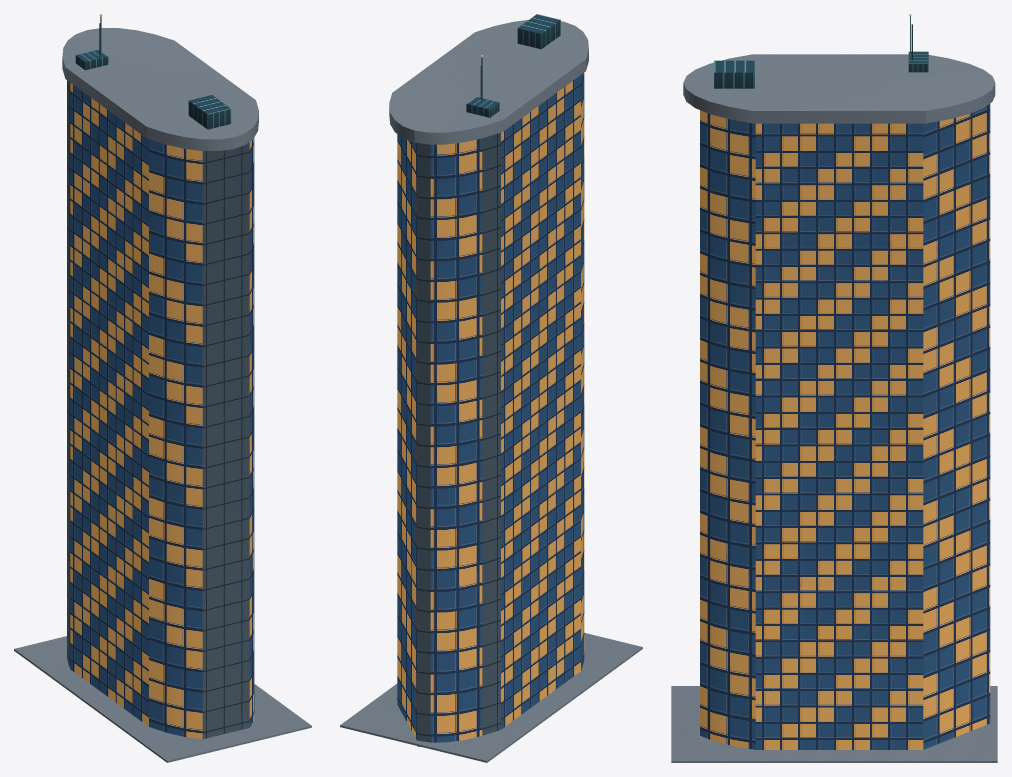
File: housing-b.glb
3 views of the same model, side by side, from view 1: azimuth 30°, elevation 25°; view 2: azimuth 150°, elevation 25°; view 3: azimuth 270°, elevation 25° (orthographic). The views are drawn at different scales.
Parts seen in each view (by area): view 1: stk_generic_modernWindows_b.png__, stk_lightGrayMetal_a.png__, stktex_generic_concreteA.png__, stk_emptyPanel_a.png__; view 2: stk_generic_modernWindows_b.png__, stktex_generic_concreteA.png__, stk_lightGrayMetal_a.png__, stk_emptyPanel_a.png__; view 3: stk_generic_modernWindows_b.png__, stktex_generic_concreteA.png__, stk_emptyPanel_a.png__.
Part boxes in pixels (bbox=[...]): stk_generic_modernWindows_b.png__: bbox=[70, 83, 254, 739]; stk_lightGrayMetal_a.png__: bbox=[67, 80, 249, 739]; stktex_generic_concreteA.png__: bbox=[14, 28, 311, 762]; stk_emptyPanel_a.png__: bbox=[75, 16, 231, 129]; stk_generic_modernWindows_b.png__: bbox=[397, 73, 584, 742]; stktex_generic_concreteA.png__: bbox=[340, 20, 642, 762]; stk_lightGrayMetal_a.png__: bbox=[417, 132, 500, 746]; stk_emptyPanel_a.png__: bbox=[466, 14, 560, 117]; stk_generic_modernWindows_b.png__: bbox=[700, 103, 990, 749]; stktex_generic_concreteA.png__: bbox=[671, 54, 997, 762]; stk_emptyPanel_a.png__: bbox=[714, 16, 928, 88].
Bounding box in the file's own units: 89.76 × 391 × 165.
5 materials, 5 textured.
